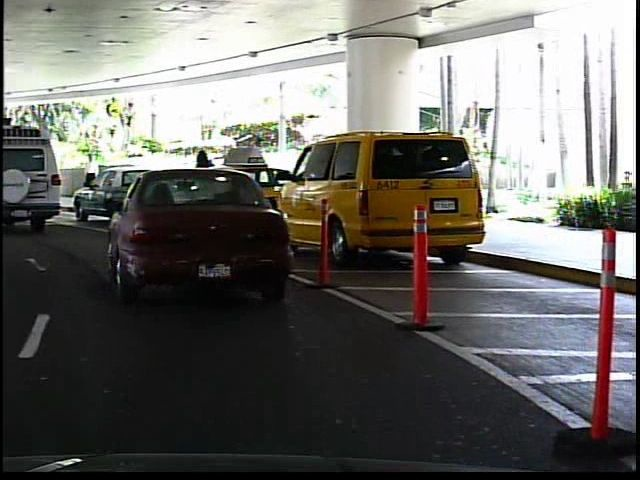person: (192, 144, 223, 209), (228, 141, 254, 208), (81, 147, 103, 201), (16, 157, 35, 196)
